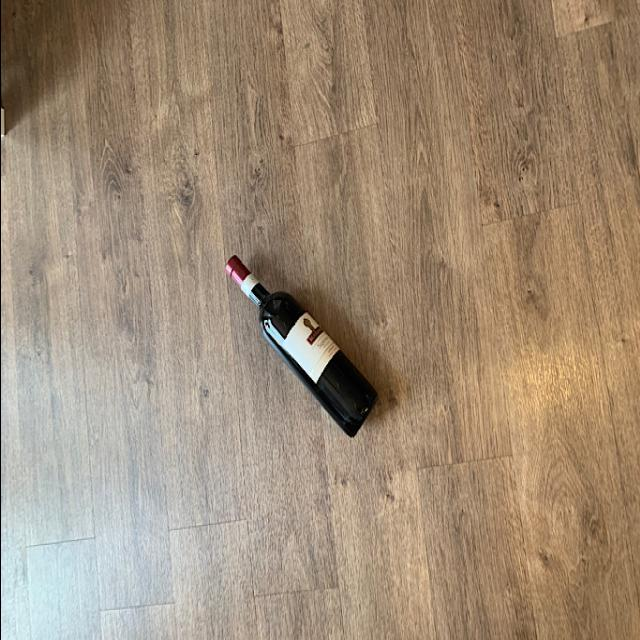Glass Bottle: (220, 251, 380, 440)
